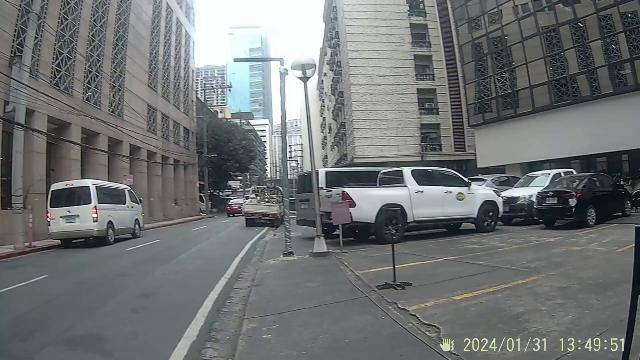car: (348, 164, 512, 240)
lamp_post: (289, 55, 335, 256)
